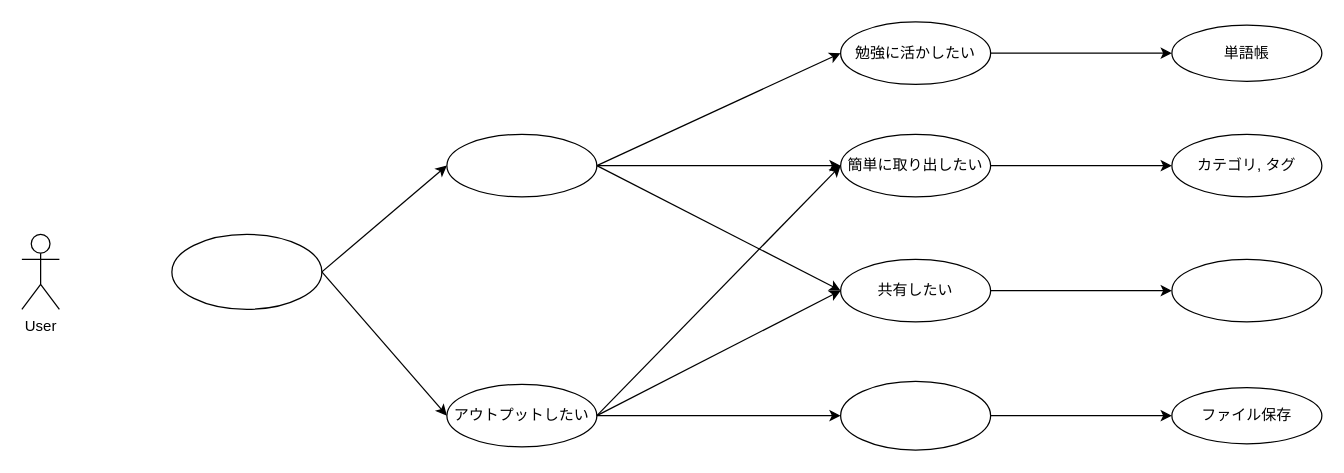
Some shapes in this 1344 by 473 pixel diagram are drawn without their labels. Each missing label, with the centre of its shape:
"グループ, フォロー" belongs at (x=1246, y=290).
"メモが取りたい" belongs at (x=521, y=165).
"後でコピペしたい" belongs at (x=915, y=415).
"記録しておきたい" belongs at (x=246, y=271).
